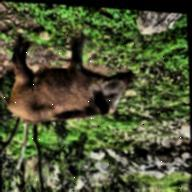boar: (0, 10, 152, 146)
